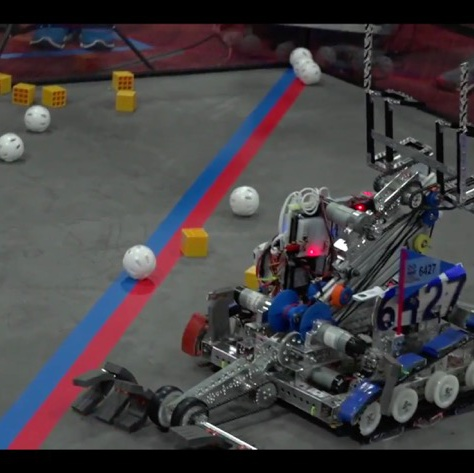robot: (283, 87, 474, 421)
